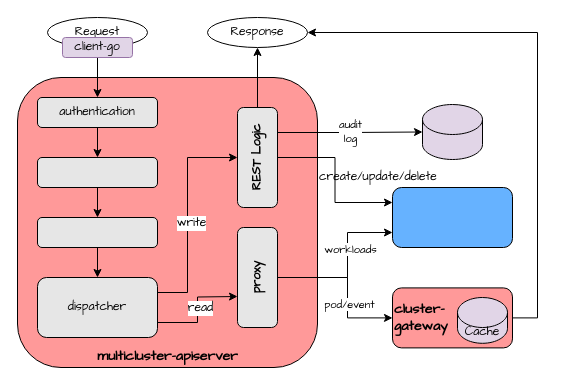
Image size: 563x385. Some labels were removed from this diagram. The shapes that lost their labels are listed below. From the top down, each one's box as (x1, y1, x2, y2) in pixels, then its label:
(422, 104, 482, 160): MYSQL
(36, 156, 158, 188): audit
(36, 216, 158, 248): flowcontrol
(392, 186, 512, 248): Karmada
